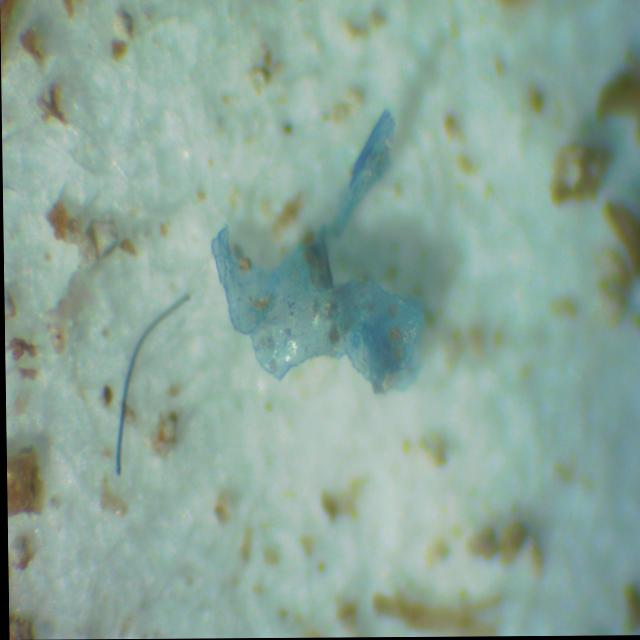microplastic: (210, 116, 426, 394)
